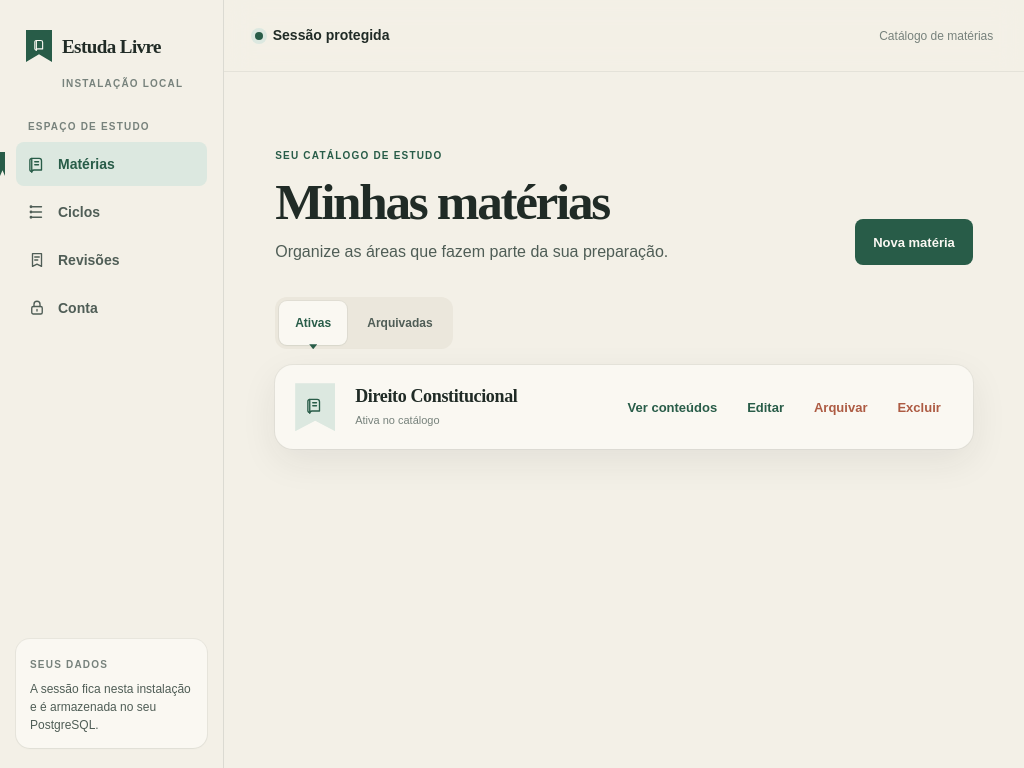
Test: authentication journey › keeps a subject and shows the backend detail when deletion conflicts
Click the button with aria-label "Excluir Direito Constitucional" at (919, 407), box [886, 385, 953, 429]
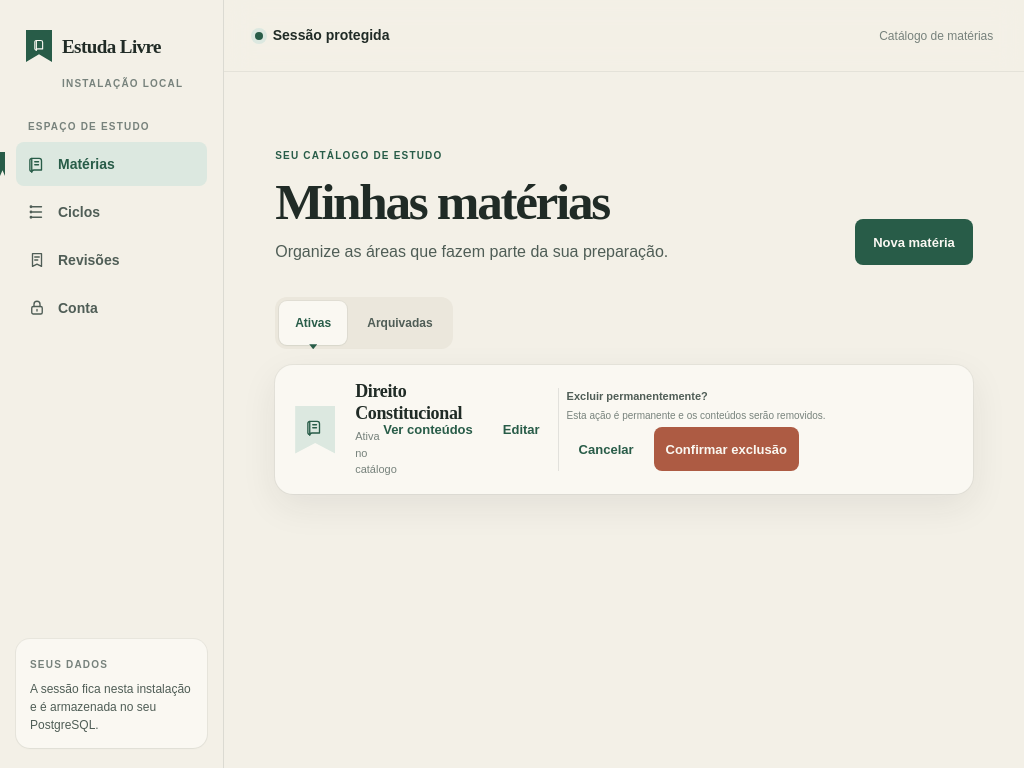
Click the button "Confirmar exclusão" at (726, 449), box [654, 427, 799, 471]
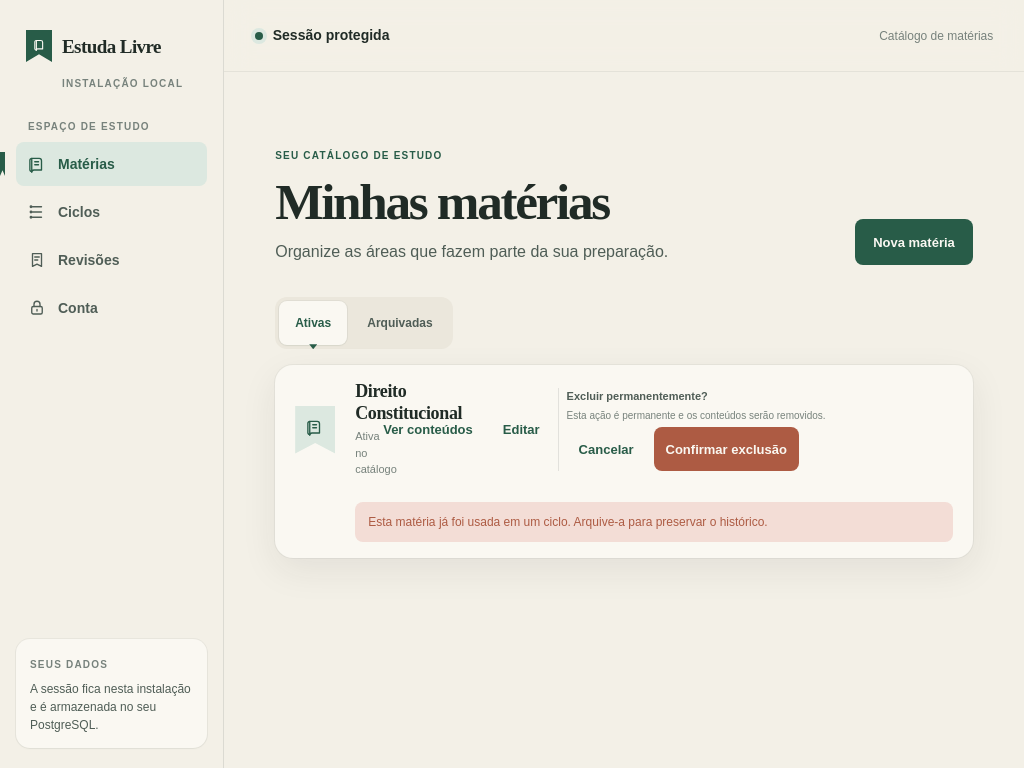
Result: the message reads "Esta matéria já foi usada em um ciclo. Arquive-a para preservar o histórico." at [368, 515, 768, 529]
